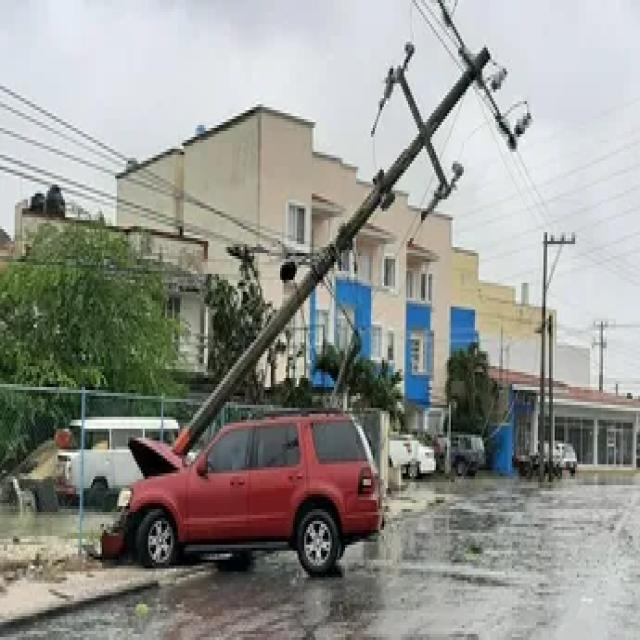Inclined Pole: (168, 0, 537, 462)
